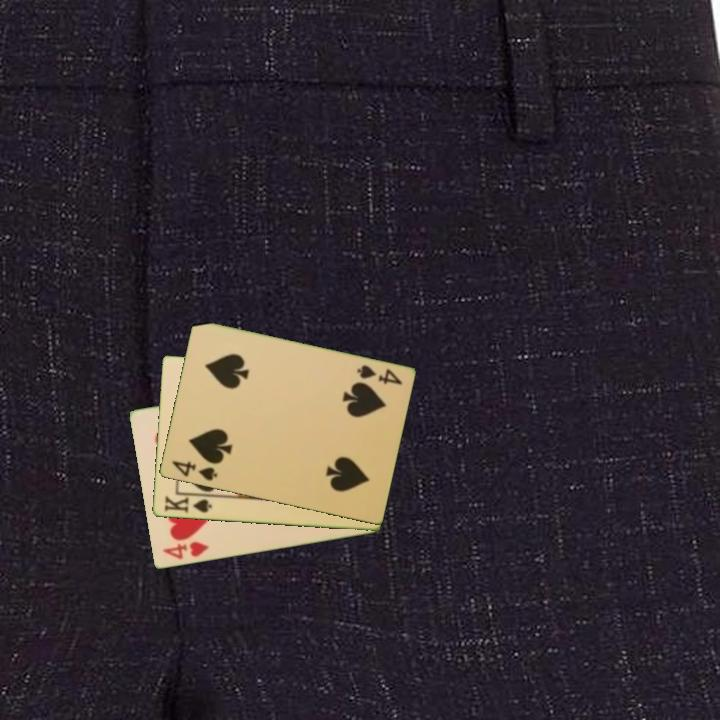4h: (159, 538, 211, 562)
4s: (168, 457, 220, 484), (353, 362, 405, 388)
Ks: (161, 491, 215, 516)
